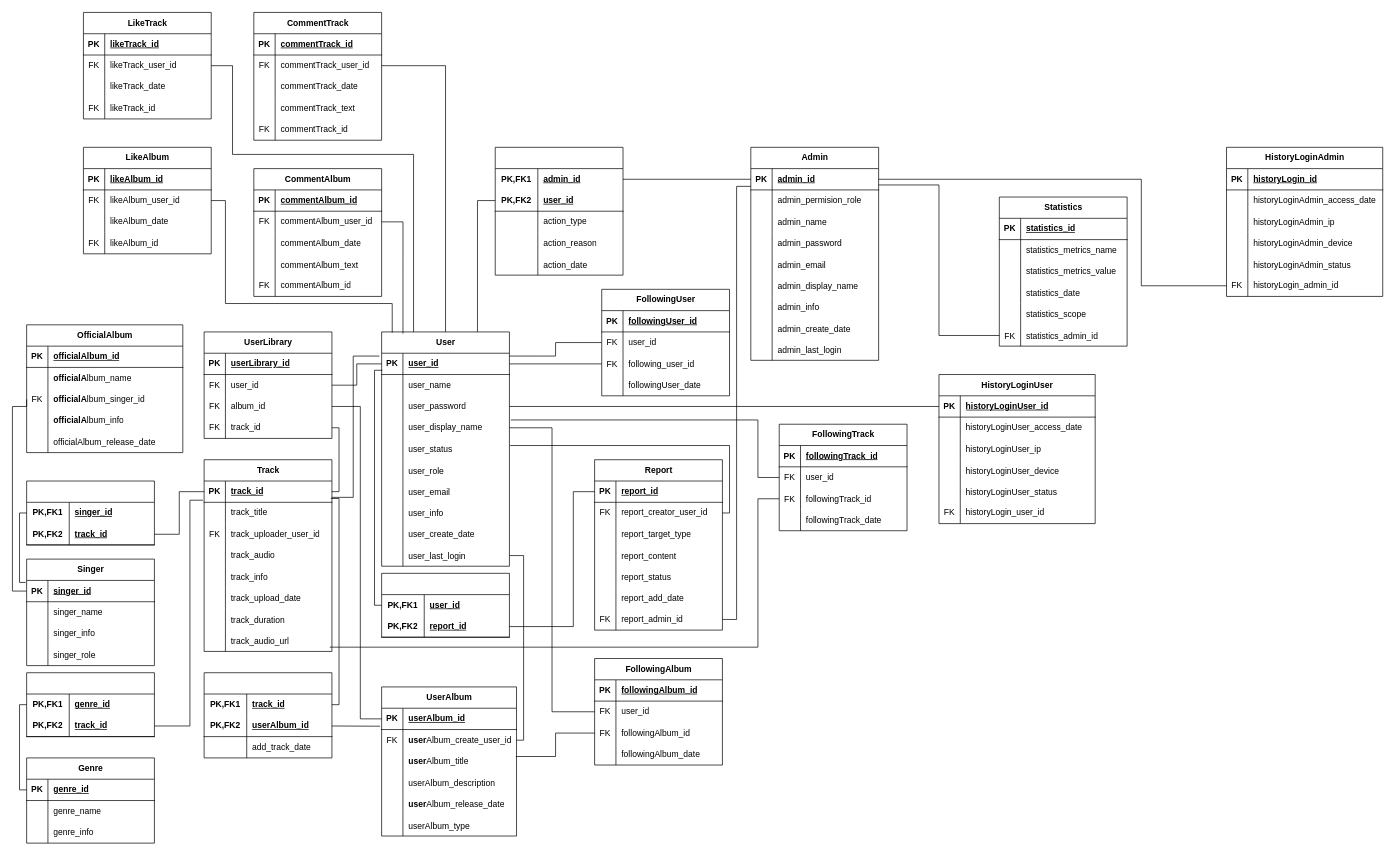
Some shapes in this 1395 by 856 pixel diagram are drawn without their labels. The shapes that lost their labels are listed below. From the top down, each one's box as (x1, y1, x2, y2) in pixels, then its label:
(495, 147, 623, 275): Admin_Action
(26, 480, 154, 545): Singer_Track
(381, 573, 509, 637): User_Report
(26, 672, 154, 737): Track_Genre
(203, 672, 332, 758): UserAlbum_Track
